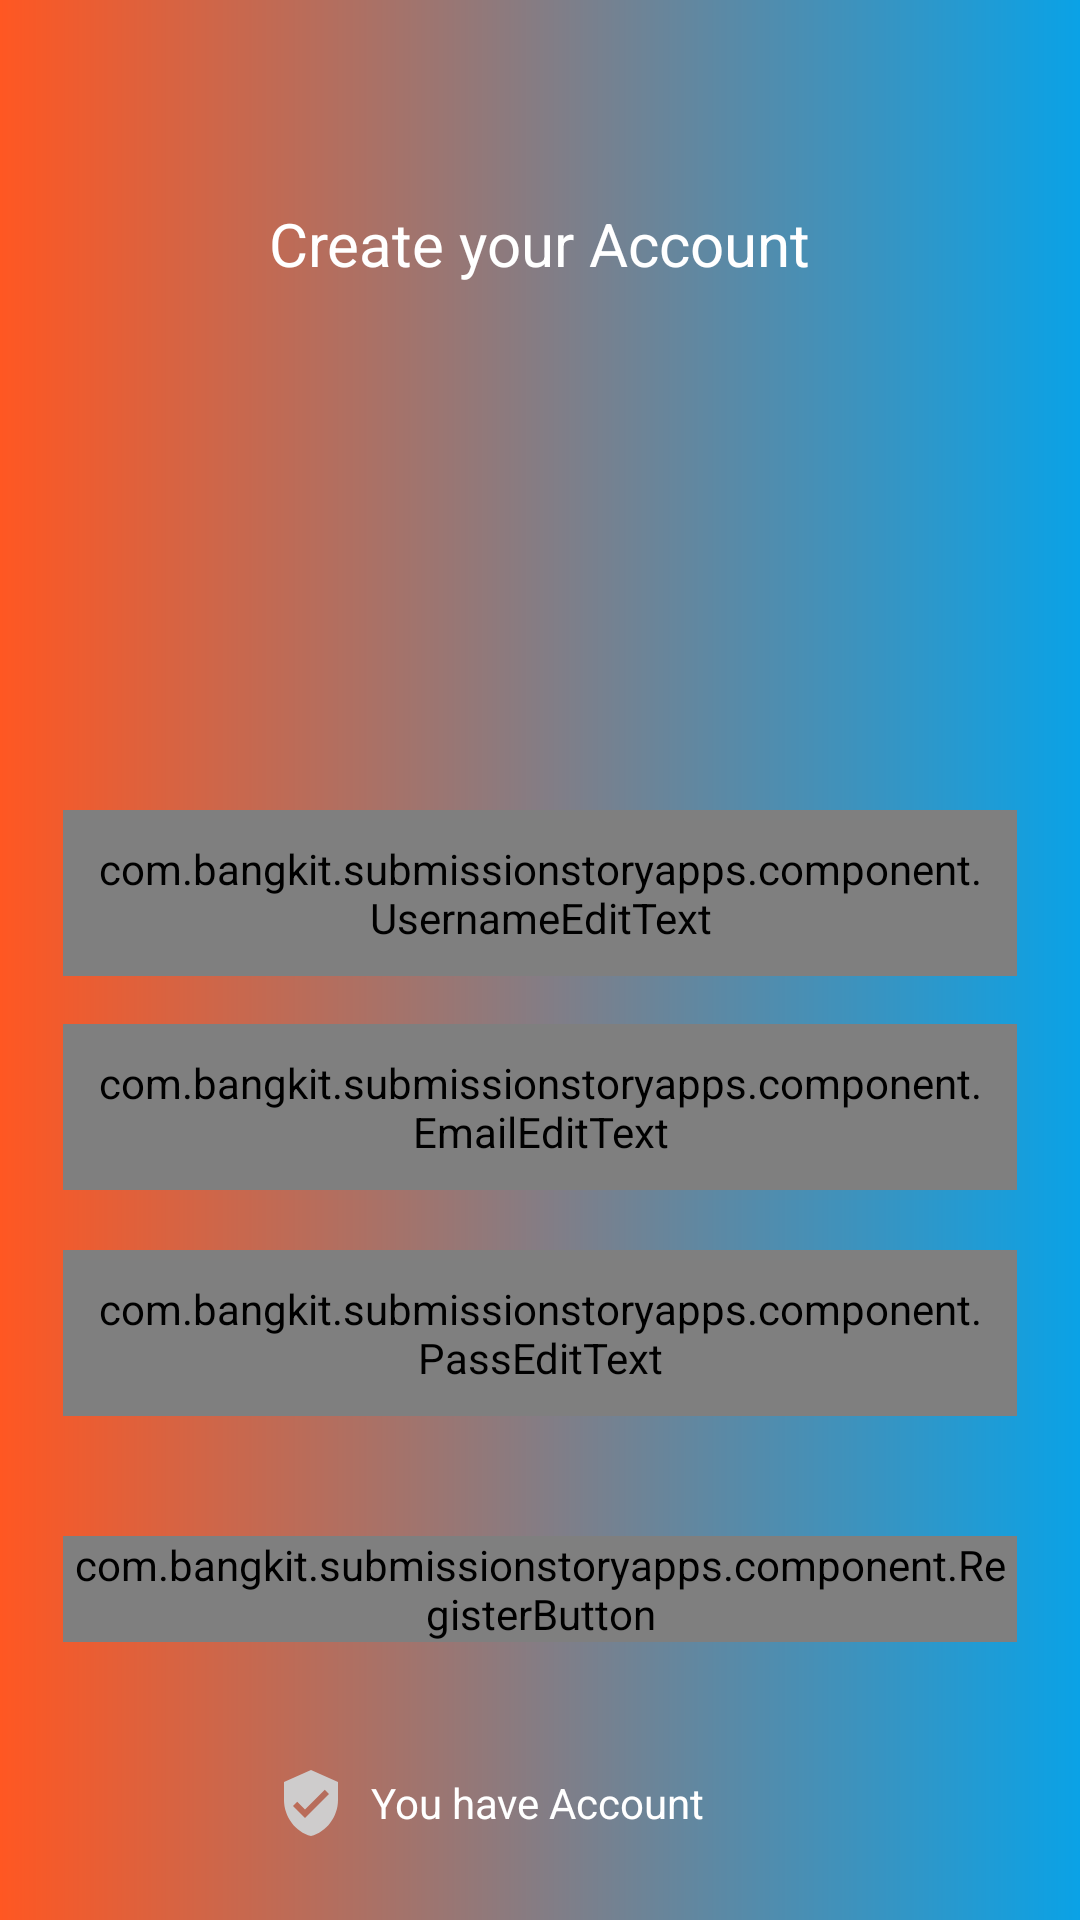

Named icons in this screenshot (1080 x 1920) and their bounding boxes, (x1, y1, x2, y2):
verified user: (284, 1770, 338, 1836)
